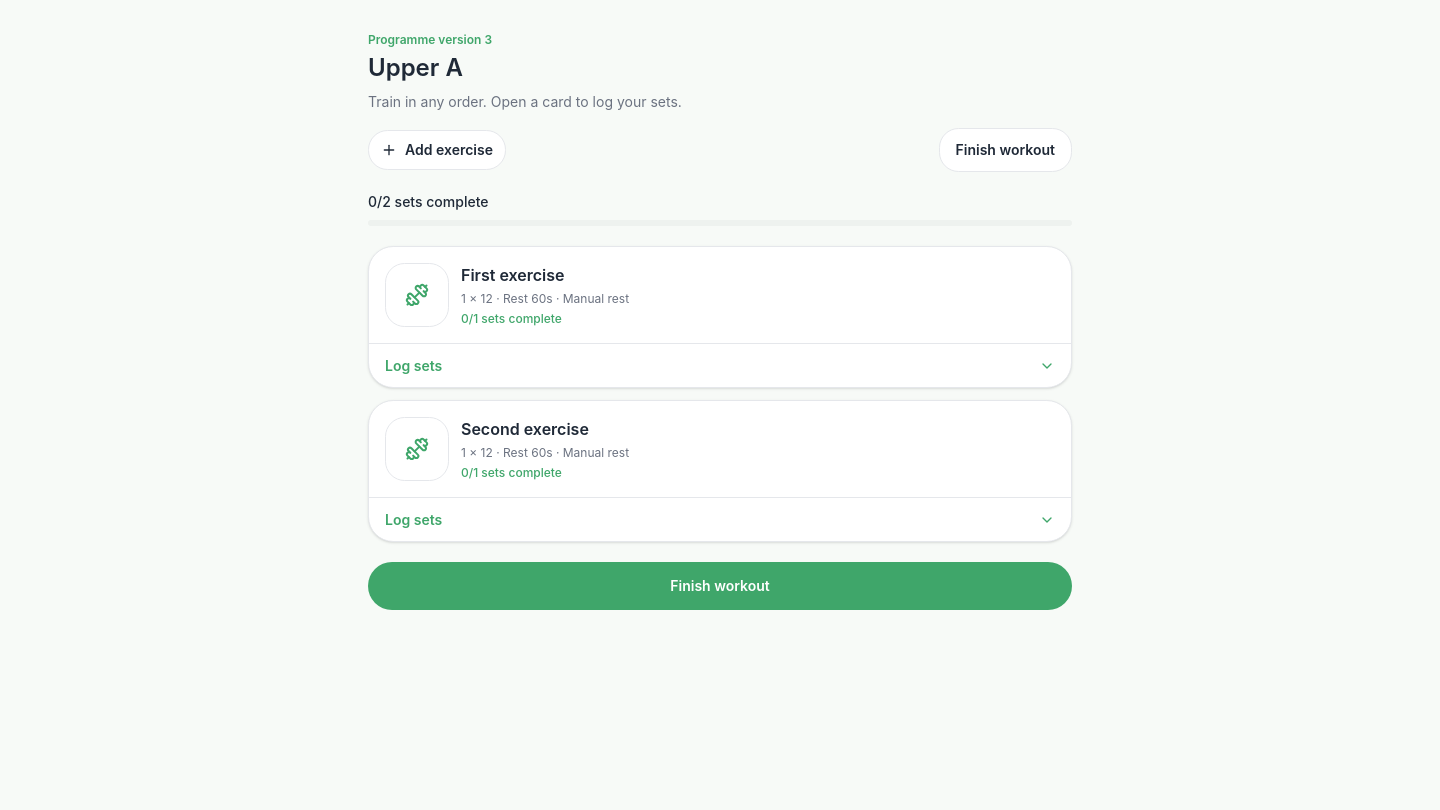
Scenario: single-page workout › logs the second exercise first and keeps completed cards visible
The image size is (1440, 810).
Click the button "Log sets" below "Second exercise": click(414, 519) [369,497,1071,541]
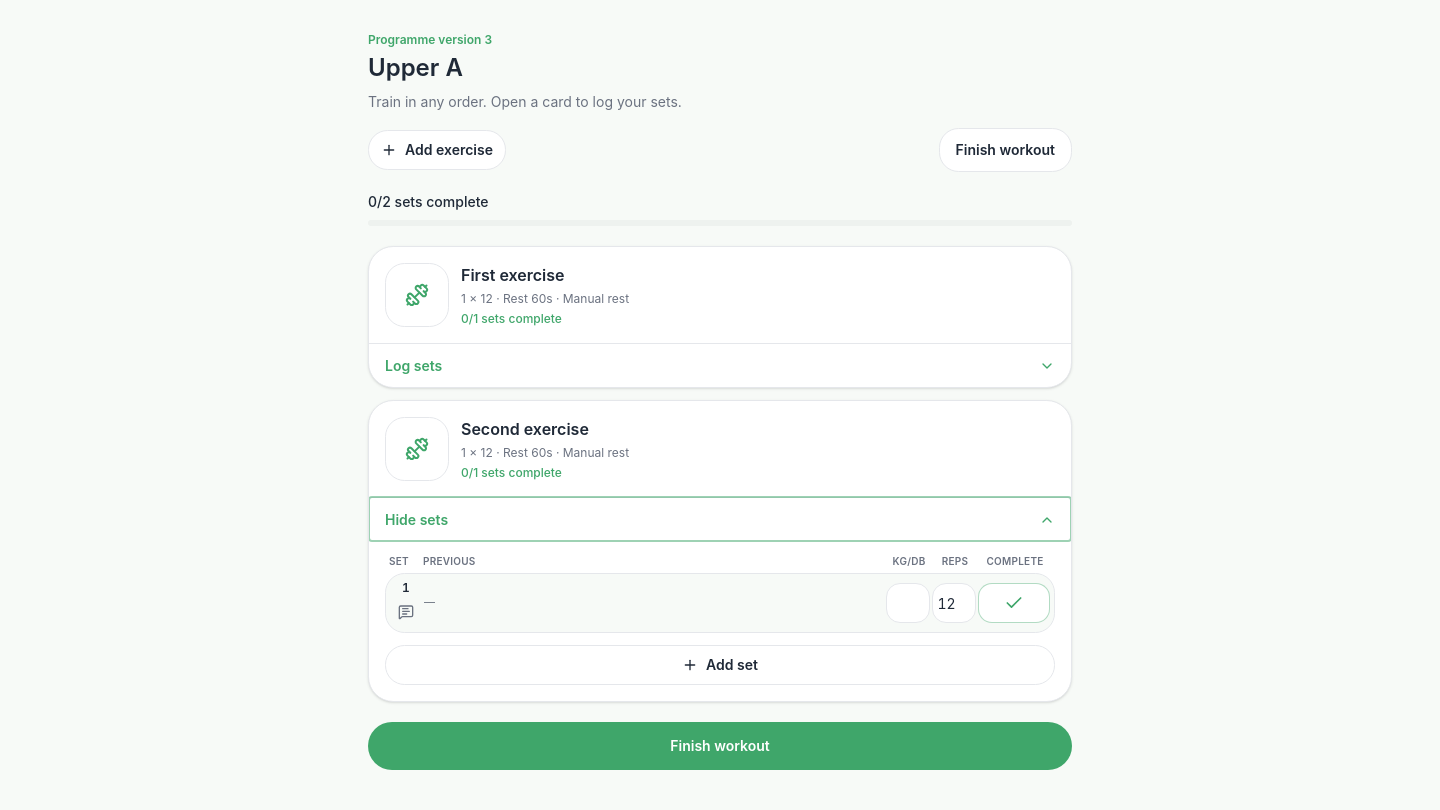
In the number field named "Set 1 weight per dumbbell (kg)": (908, 603) [886,583,930,623], type "10"
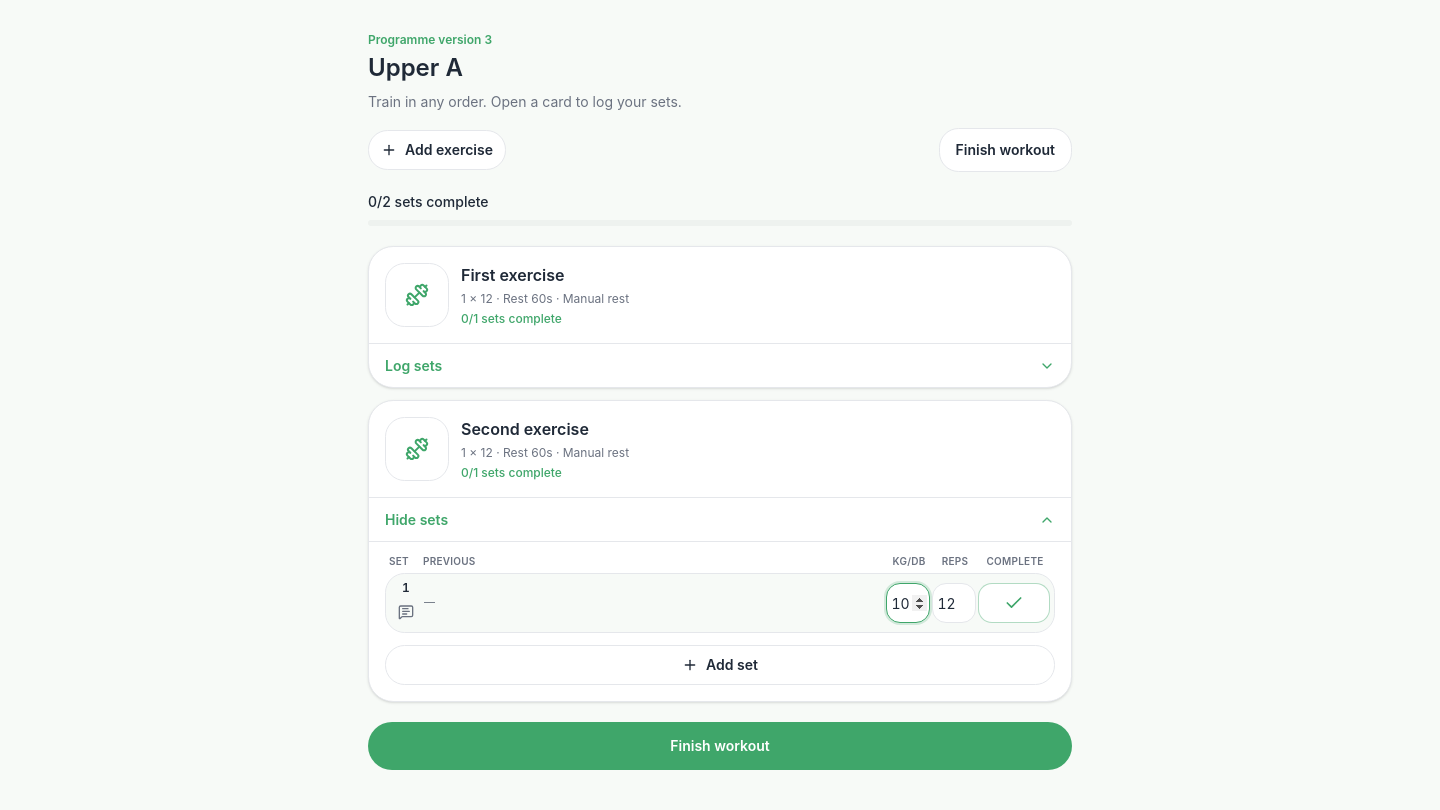
Click the button named "Complete set 1": click(1014, 603) [978,583,1050,623]
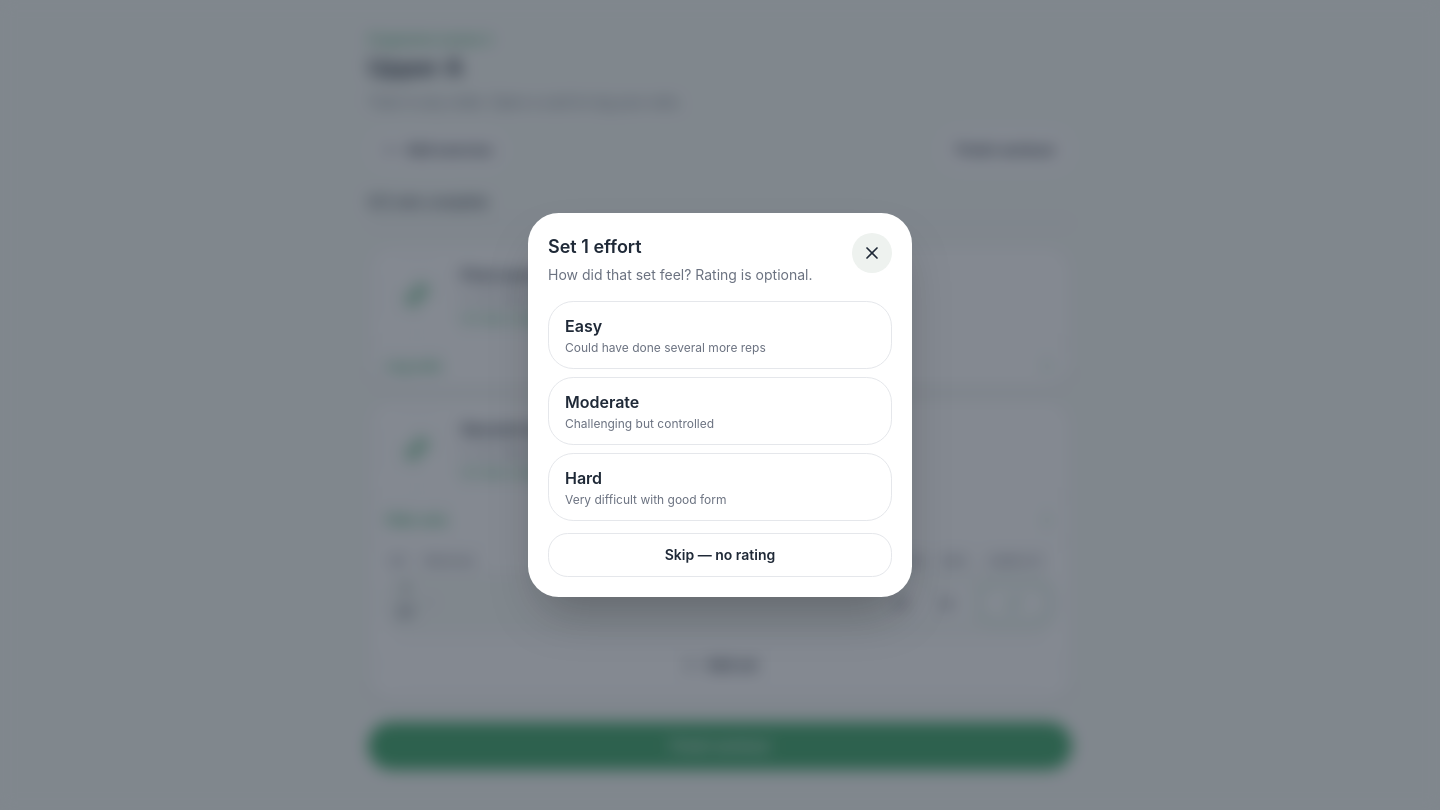
Click the button "Skip — no rating": click(720, 555) [548,533,892,577]
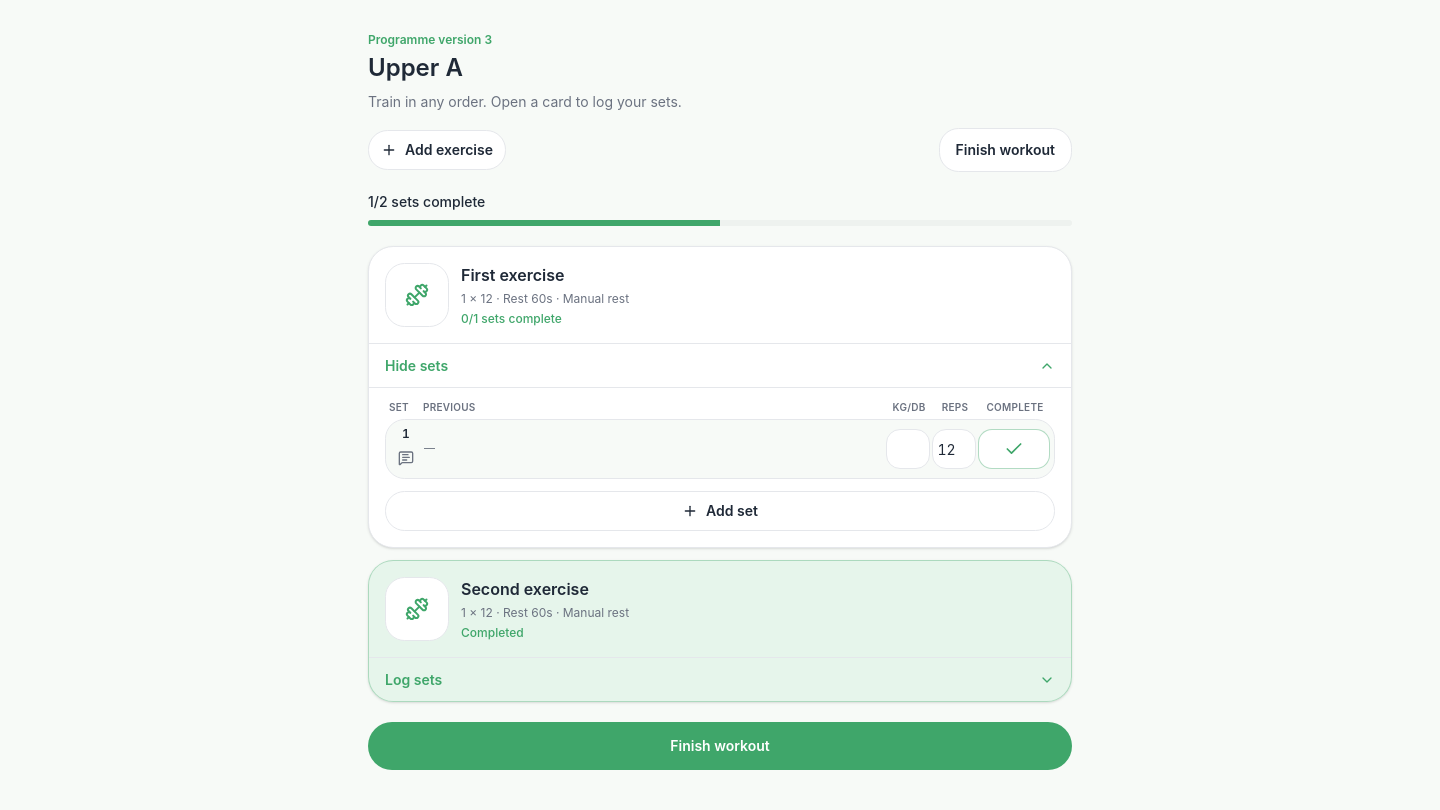
Check: the text "1/2 sets complete" is shown, box [368,193,485,210]
Check: the text "Completed" is shown, box [461,625,524,640]
Check: the button "Log sets" is collapsed, box [369,657,1071,701]
